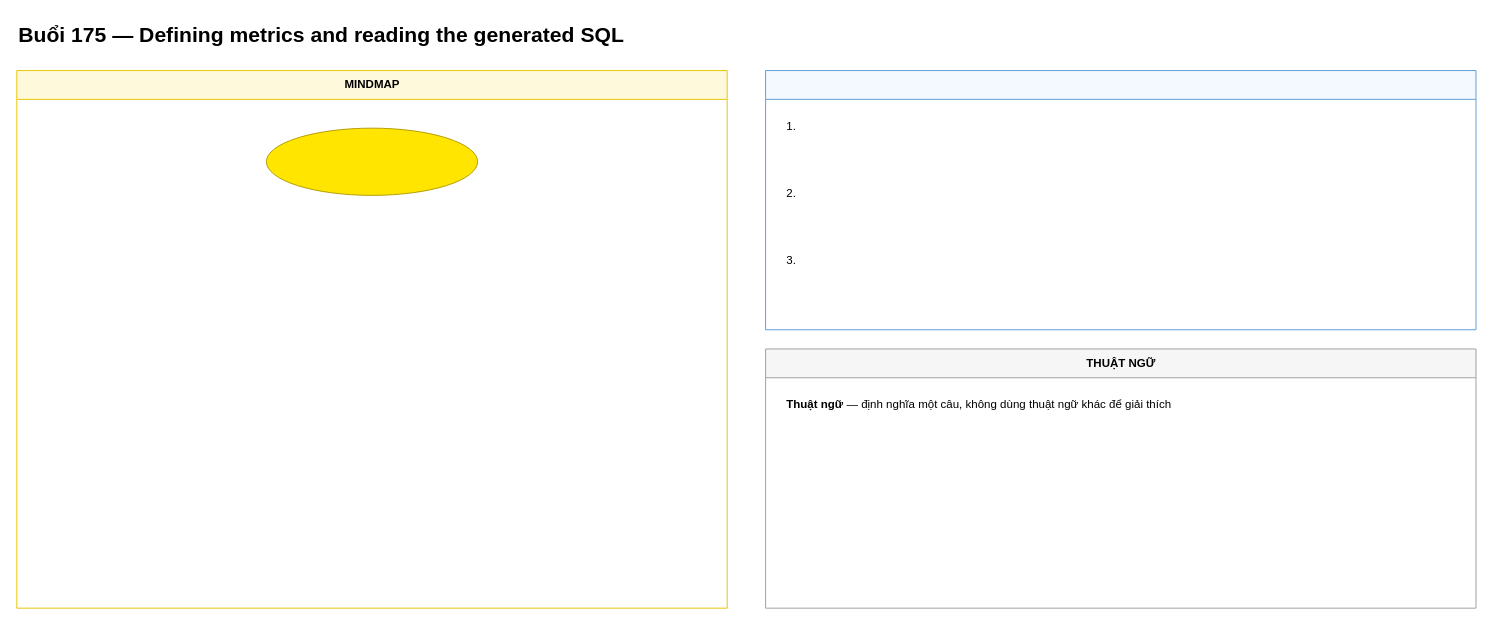
The diagram is 1493 pixels wide and 625 high, and some of its shapes have lost their labels. The shapes that lost their labels are listed below. From the top down, each one's box as (x1, y1, x2, y2) in pixels, then its label:
(265, 127, 478, 195): Defining metrics and reading the generated SQL
(765, 70, 1476, 330): KEY TAKEAWAY — ba điều phải nhớ
